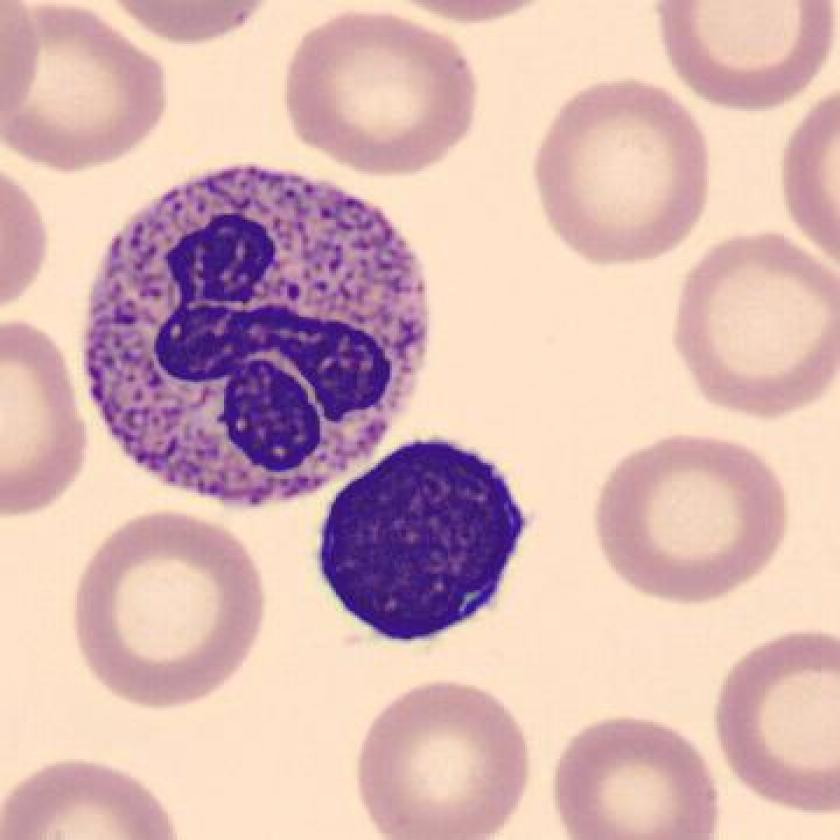lymphocyte: (300, 432, 547, 661)
